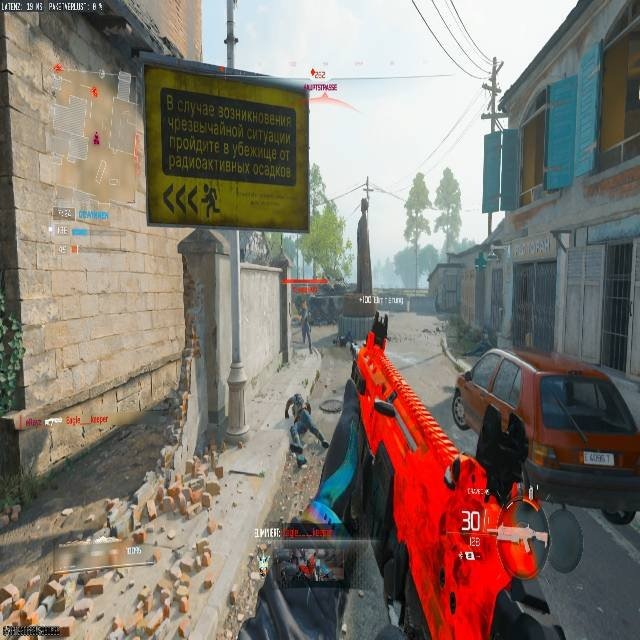player: (285, 392, 326, 467), (297, 293, 325, 354)
